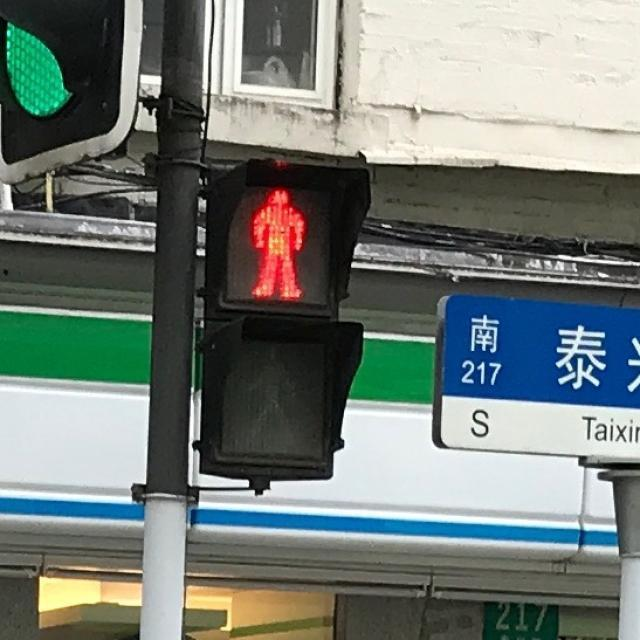red-crossing: (245, 182, 312, 298)
